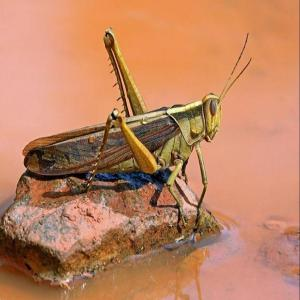locust: (18, 65, 248, 212)
